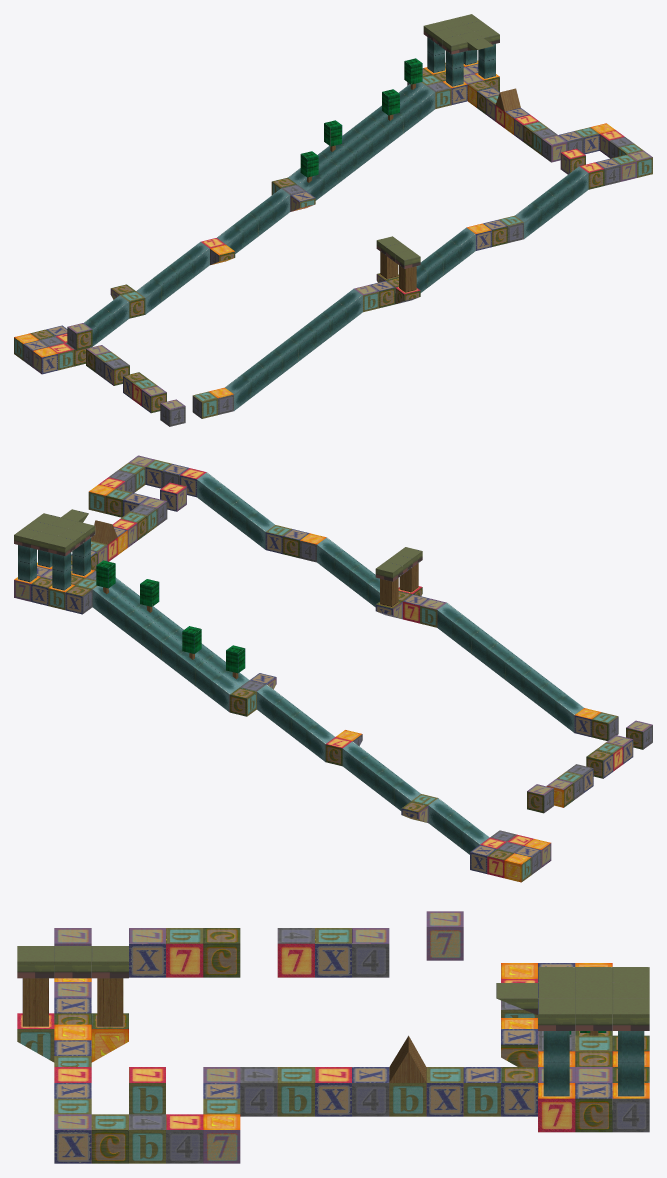
File: stage1.glb
3 views of the same model, one above another, from view 1: azimuth 30°, elevation 25°; view 2: azimuth 150°, elevation 25°; view 3: azimuth 270°, elevation 25° (orthographic). The views are drawn at different scales.
Visible parts, largest first — view 1: Frame_0.003; view 2: Frame_0.003; view 3: Frame_0.003.
Boxes of the visible parts, <box> form: Frame_0.003: <box>14,14,652,426</box>; Frame_0.003: <box>14,455,652,882</box>; Frame_0.003: <box>17,911,649,1163</box>.
Bounding box in the file's own units: 155 × 65 × 85.
Materials: 1 (1 with a texture image).
